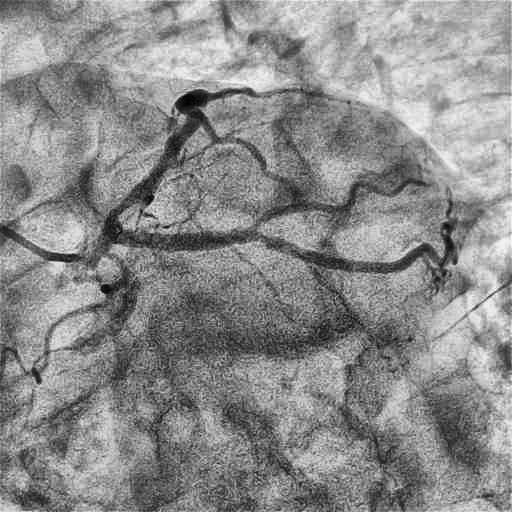pborca: (250, 179, 425, 230)
pda: (257, 231, 453, 273)
rca: (102, 110, 256, 252)
